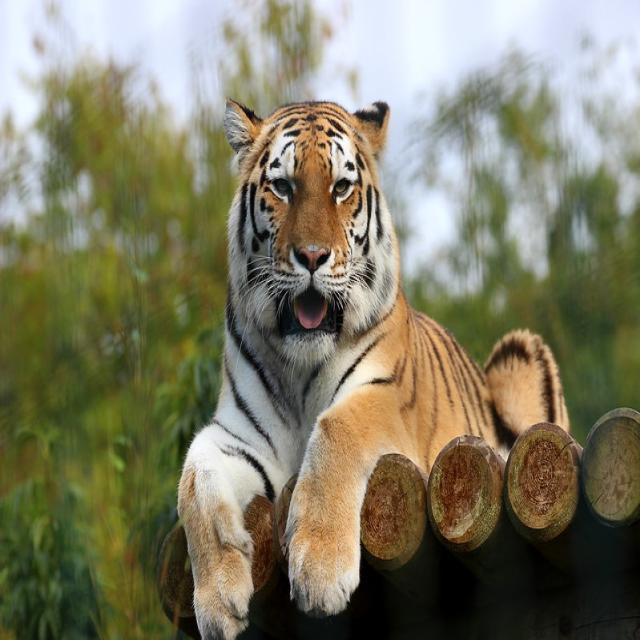Tiger: (176, 94, 575, 638)
